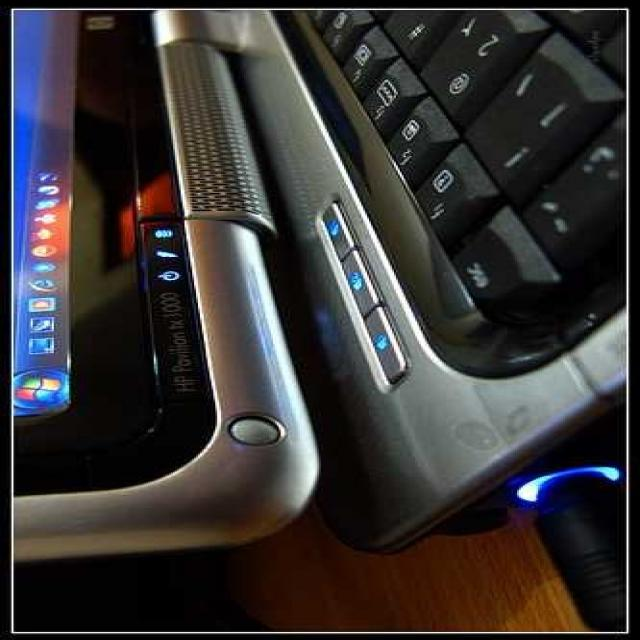laptop: (11, 3, 640, 505)
